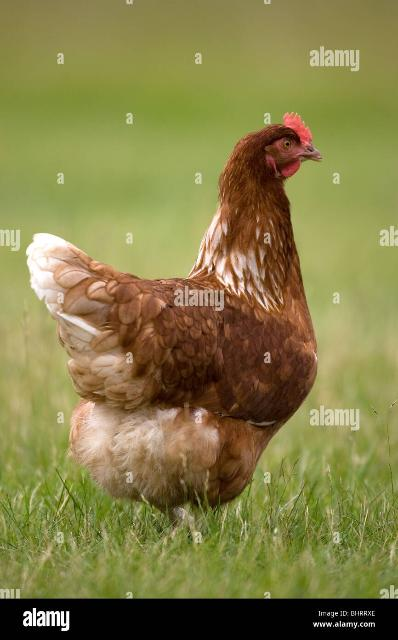Chicken: (23, 109, 325, 511)
